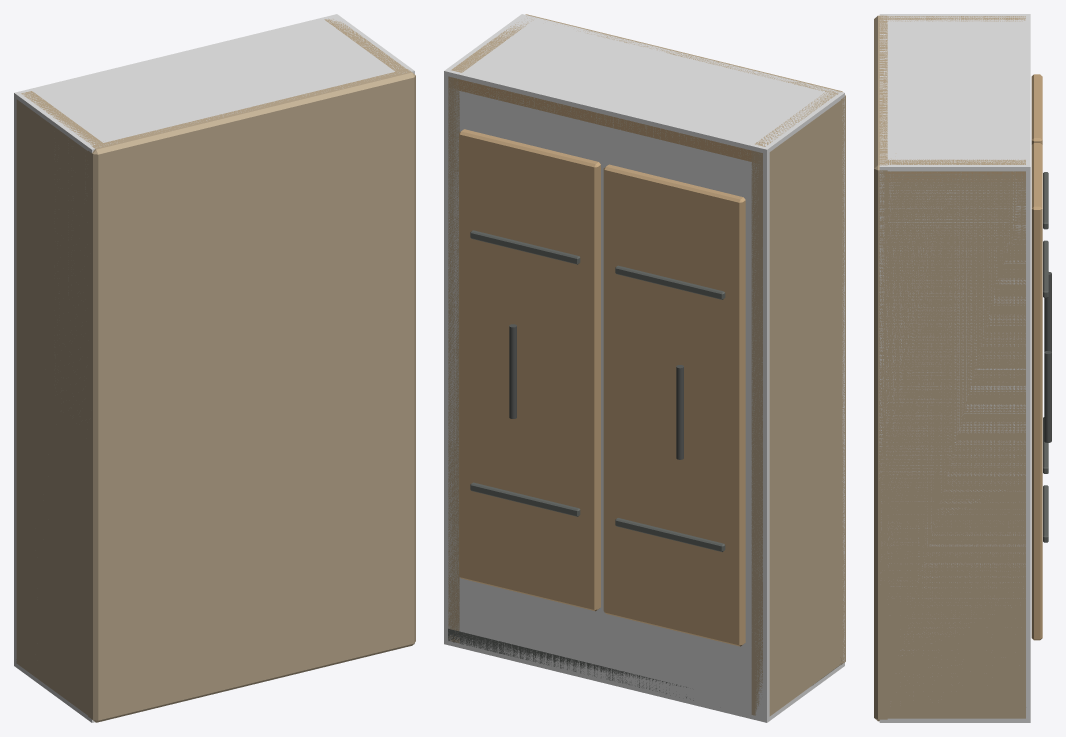
The model's file is standard.glb.
The picture shows the model from 3 angles, left to right: view 1: azimuth 30°, elevation 25°; view 2: azimuth 150°, elevation 25°; view 3: azimuth 270°, elevation 25°; orthographic projection. The views are drawn at different scales.
Parts seen in each view (by area): view 1: Cabinet_Back.001, Cabinet_Side.002, COL_OFFICE_CABINETS_STANDARD, Cabinet_Side.003; view 2: COL_OFFICE_CABINETS_STANDARD, Cabinet_Door_-1.001, Cabinet_Door_1.001, Cabinet_Side.002, Cabinet_Side.003, Cabinet_Top.001, Cabinet_Back.001, Cabinet_Bottom.001, Cabinet_DoorRail_1.001, Cabinet_DoorRail_1, Cabinet_DoorRail_-1, Cabinet_DoorRail_-1.001 (+2 smaller); view 3: Cabinet_Side.003, COL_OFFICE_CABINETS_STANDARD, Cabinet_Back.001, Cabinet_Door_1.001, Cabinet_Door_-1.001, Cabinet_Top.001, Cabinet_Handle_1.001, Cabinet_Side.002, Cabinet_Handle_-1.001, Cabinet_DoorRail_-1.001, Cabinet_DoorRail_1.001, Cabinet_DoorRail_1.
Boxes of the visible parts, bbox=[...] form: Cabinet_Back.001: bbox=[88, 69, 415, 722]; Cabinet_Side.002: bbox=[16, 91, 102, 716]; COL_OFFICE_CABINETS_STANDARD: bbox=[14, 14, 414, 722]; Cabinet_Side.003: bbox=[324, 18, 406, 72]; COL_OFFICE_CABINETS_STANDARD: bbox=[444, 14, 844, 722]; Cabinet_Door_-1.001: bbox=[603, 164, 745, 646]; Cabinet_Door_1.001: bbox=[459, 129, 600, 611]; Cabinet_Side.002: bbox=[751, 91, 842, 716]; Cabinet_Side.003: bbox=[448, 18, 533, 643]; Cabinet_Top.001: bbox=[448, 77, 761, 163]; Cabinet_Back.001: bbox=[525, 14, 845, 664]; Cabinet_Bottom.001: bbox=[448, 628, 842, 700]; Cabinet_DoorRail_1.001: bbox=[470, 230, 580, 264]; Cabinet_DoorRail_1: bbox=[470, 482, 580, 516]; Cabinet_DoorRail_-1: bbox=[615, 518, 725, 551]; Cabinet_DoorRail_-1.001: bbox=[615, 265, 725, 299]; Cabinet_Side.003: bbox=[884, 159, 1025, 718]; COL_OFFICE_CABINETS_STANDARD: bbox=[879, 14, 1030, 722]; Cabinet_Back.001: bbox=[874, 15, 887, 721]; Cabinet_Door_1.001: bbox=[1031, 143, 1042, 640]; Cabinet_Door_-1.001: bbox=[1031, 74, 1042, 144]; Cabinet_Top.001: bbox=[885, 171, 1025, 181]; Cabinet_Handle_1.001: bbox=[1044, 351, 1051, 442]; Cabinet_Side.002: bbox=[886, 16, 1025, 21]; Cabinet_Handle_-1.001: bbox=[1044, 272, 1051, 351]; Cabinet_DoorRail_-1.001: bbox=[1043, 172, 1048, 229]; Cabinet_DoorRail_1.001: bbox=[1043, 240, 1048, 297]; Cabinet_DoorRail_1: bbox=[1043, 485, 1048, 542].
Size of the model in its own units: 1.15 by 1.95 by 0.5649.
